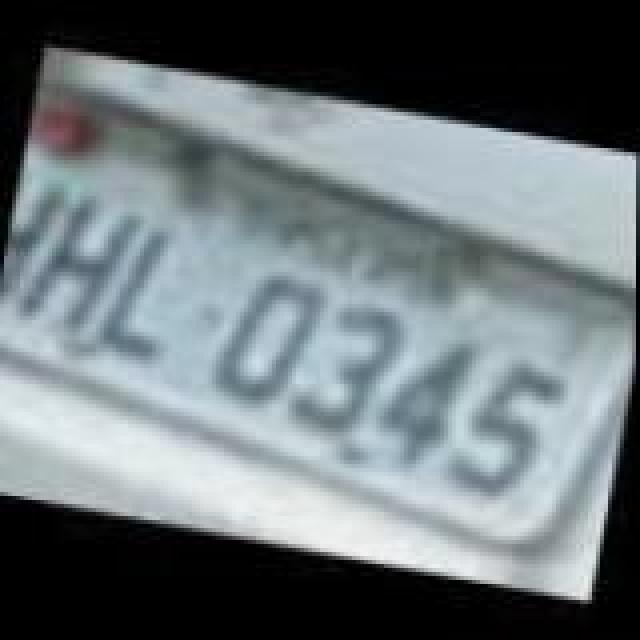3: (288, 288, 404, 440)
4: (368, 322, 476, 482)
5: (442, 346, 566, 502)
H: (12, 186, 144, 350)
L: (88, 216, 192, 364)
O: (210, 256, 326, 416)
